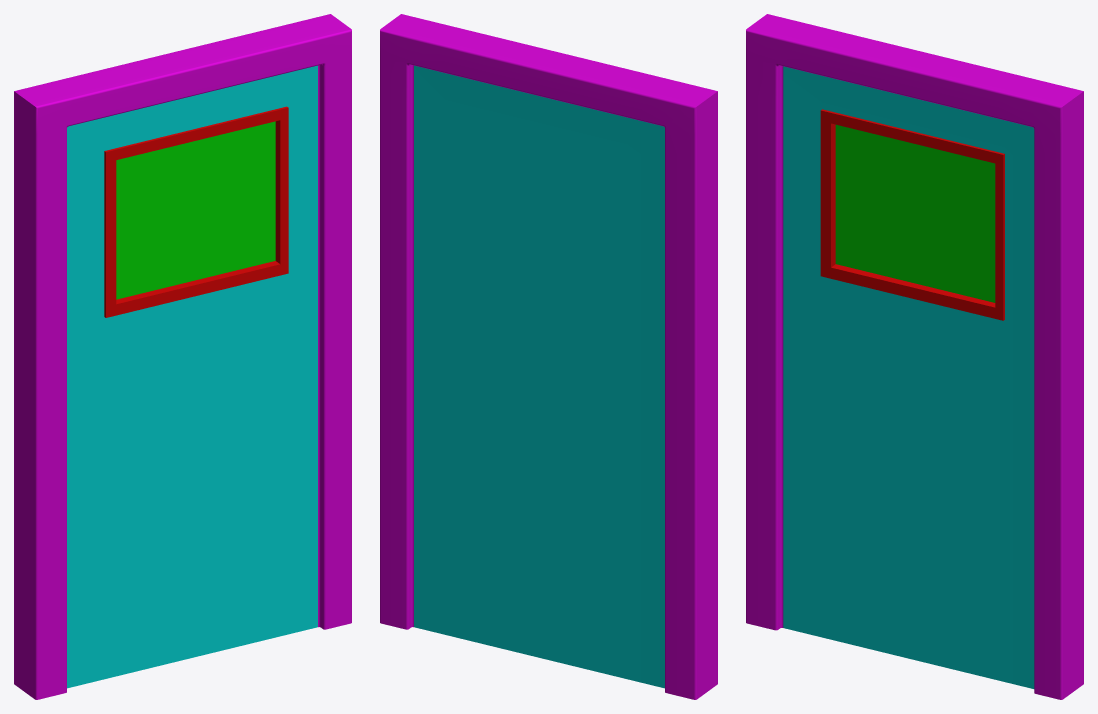
The model's file is KitchenDoor.fbx.
3 views of the same model, side by side, from view 1: azimuth 30°, elevation 25°; view 2: azimuth 150°, elevation 25°; view 3: azimuth 330°, elevation 25° (orthographic).
Parts seen in each view (by area): view 1: doorMain_high; view 2: doorMain_high; view 3: doorMain_high.
Part boxes in pixels (left/top/right/bottom): doorMain_high: left=14, top=14, right=351, bottom=699; doorMain_high: left=380, top=14, right=717, bottom=699; doorMain_high: left=746, top=14, right=1083, bottom=699.
Bounding box in the file's own units: 125 × 224 × 15.59.
